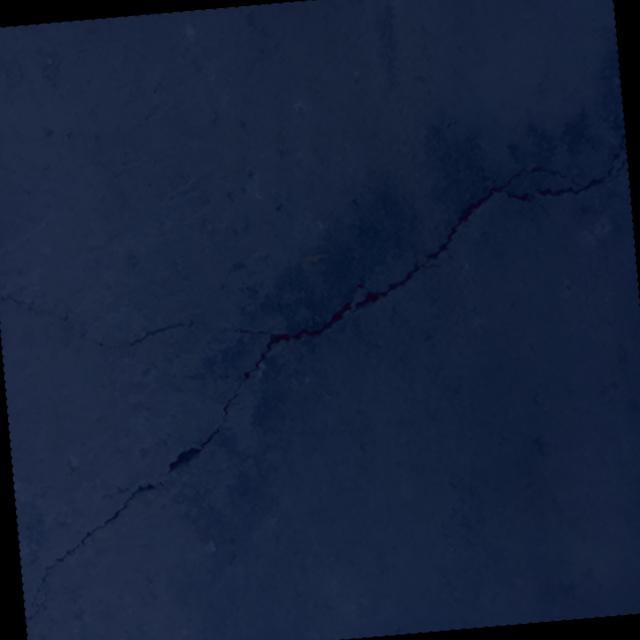crack: (0, 133, 640, 626), (44, 298, 194, 356)
